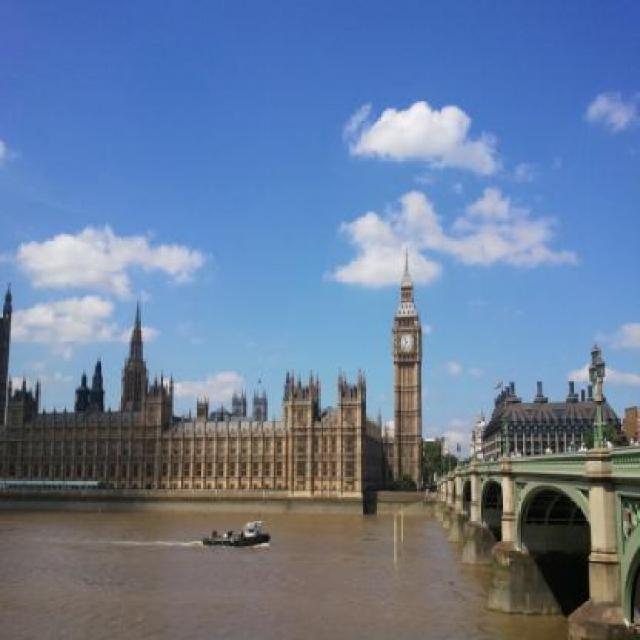ship: (192, 507, 274, 551)
